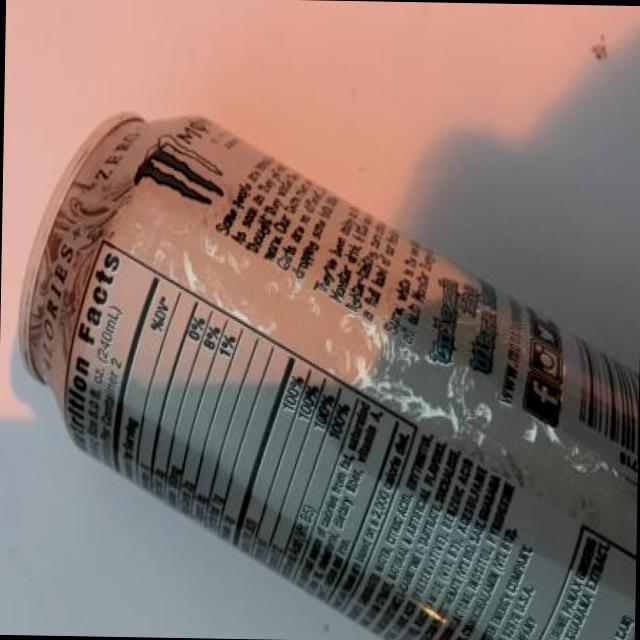kim_loai: (15, 114, 639, 640)
